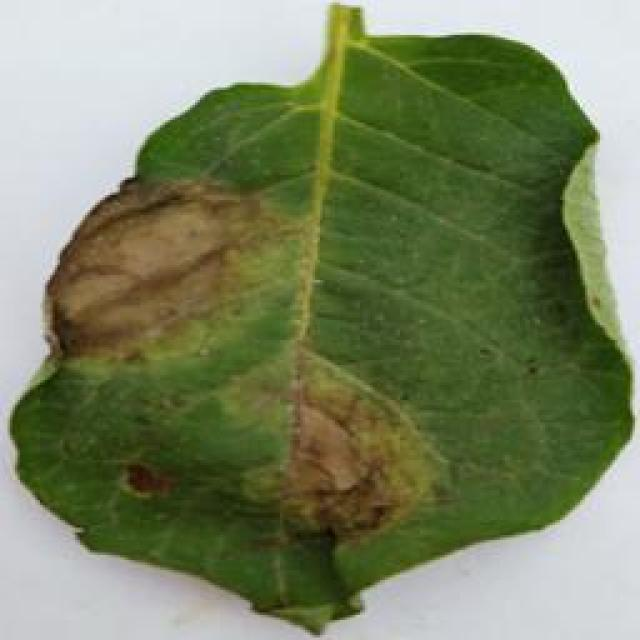Potato_Late_Blight: (9, 5, 640, 626)
